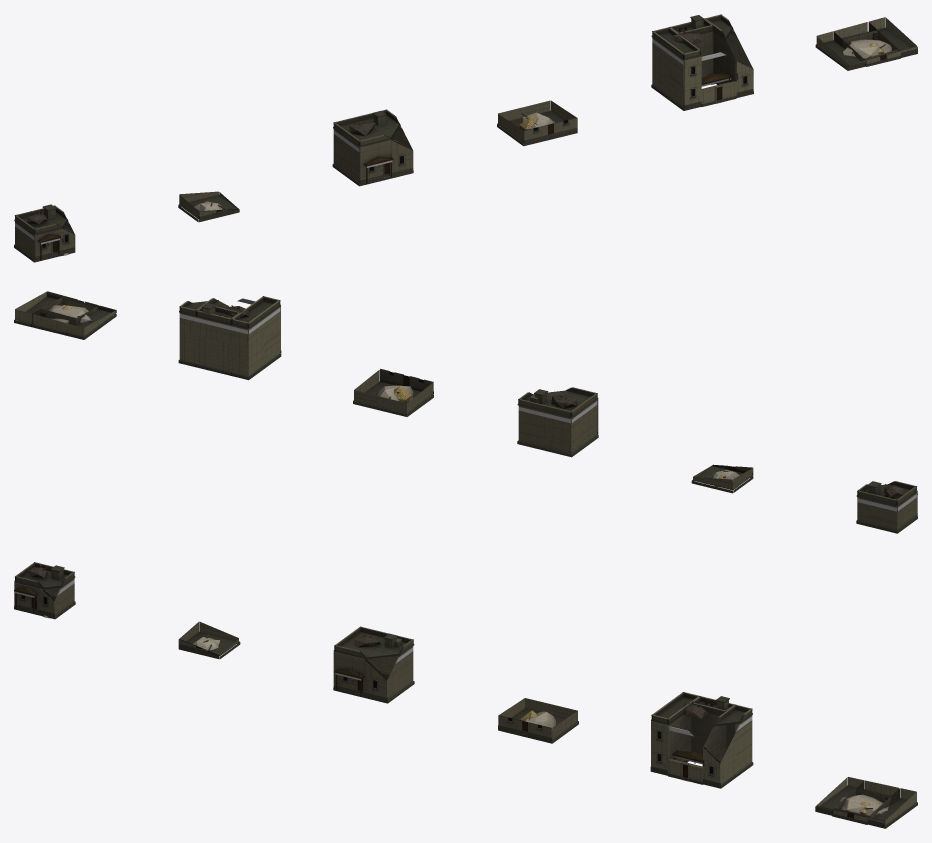
Rendered from gunpowder-eastafrica-houses-damage.glb.
3 views of the same model, one above another, from view 1: azimuth 30°, elevation 25°; view 2: azimuth 150°, elevation 25°; view 3: azimuth 330°, elevation 25° (orthographic).
Parts seen in each view (by area): view 1: LOD0.004, LOD0.002, LOD0.005, LOD0, LOD0.003, LOD0.001; view 2: LOD0.004, LOD0.002, LOD0.005, LOD0, LOD0.003, LOD0.001; view 3: LOD0.004, LOD0.002, LOD0.005, LOD0, LOD0.003, LOD0.001.
Boxes of the visible parts, <box> form: LOD0.004: <box>651,14,753,110</box>; LOD0.002: <box>332,109,413,186</box>; LOD0.005: <box>815,17,917,70</box>; LOD0: <box>14,204,75,262</box>; LOD0.003: <box>497,100,577,146</box>; LOD0.001: <box>178,191,239,222</box>; LOD0.004: <box>178,296,281,380</box>; LOD0.002: <box>517,387,598,457</box>; LOD0.005: <box>14,291,116,339</box>; LOD0: <box>856,481,917,533</box>; LOD0.003: <box>353,368,433,416</box>; LOD0.001: <box>691,464,753,493</box>; LOD0.004: <box>650,692,753,788</box>; LOD0.002: <box>333,626,414,703</box>; LOD0.005: <box>815,777,917,828</box>; LOD0: <box>14,562,75,619</box>; LOD0.003: <box>498,698,578,743</box>; LOD0.001: <box>178,621,240,659</box>.
Size of what is drawn, in the model's own units: 16.02 by 1.08 by 1.05.
Materials: 2 (2 with a texture image).
